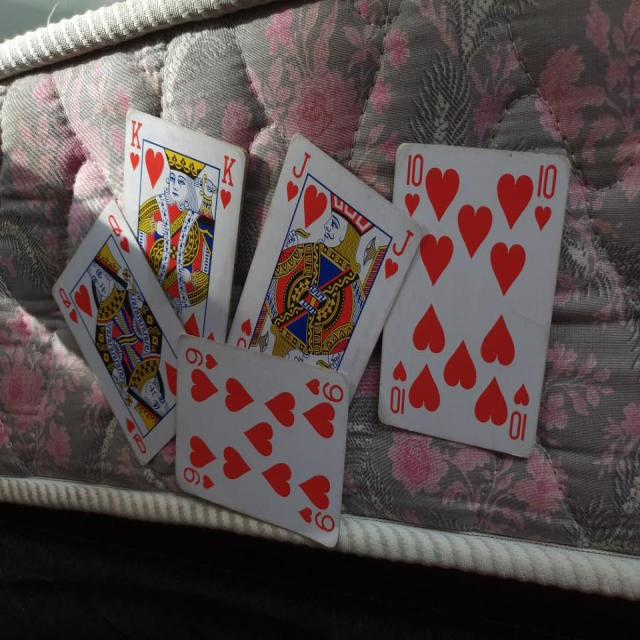10 Hearts: (377, 140, 572, 457)
9 Hearts: (168, 320, 353, 549)
J Hearts: (218, 127, 424, 416)
K Hearts: (118, 102, 253, 348)
Q Hearts: (56, 203, 197, 478)
